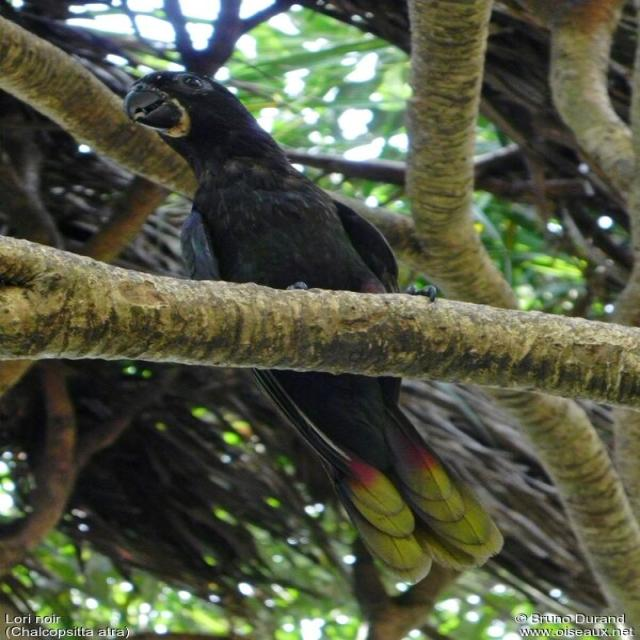Nuri Hitam: (107, 56, 520, 588)
